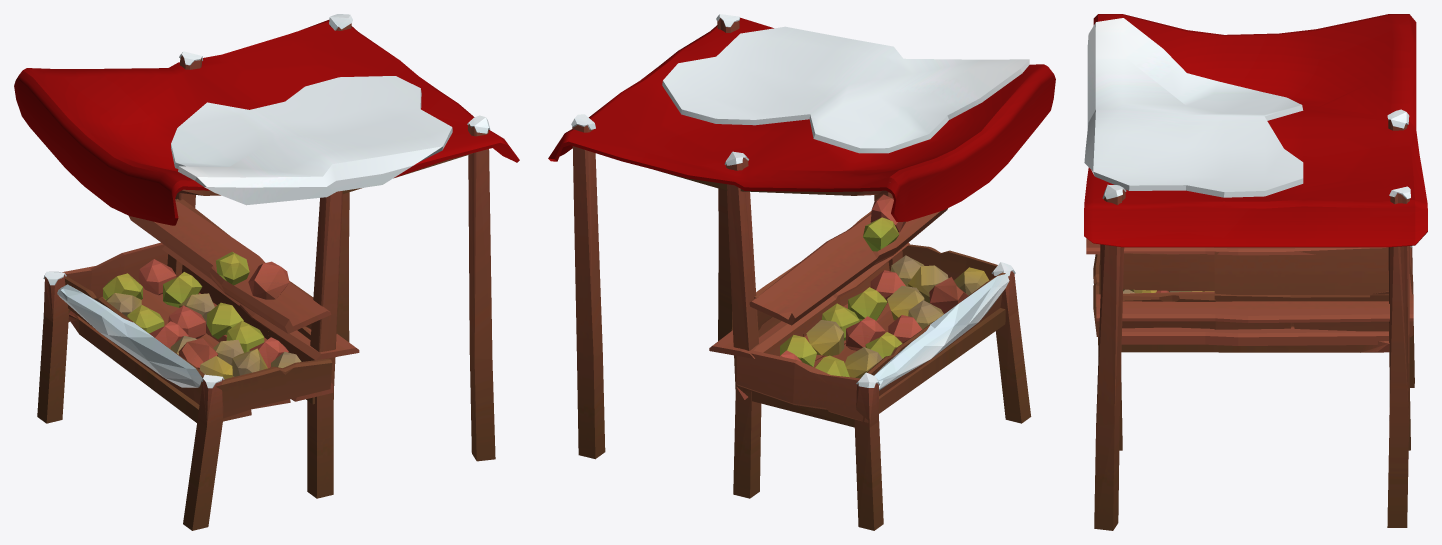
3 views of the same model, side by side, from view 1: azimuth 30°, elevation 25°; view 2: azimuth 150°, elevation 25°; view 3: azimuth 270°, elevation 25° (orthographic).
Parts seen in each view (by area): view 1: SnowyMarketStand; view 2: SnowyMarketStand; view 3: SnowyMarketStand.
Part boxes in pixels (x1,y1,x2,y2): SnowyMarketStand: (14,14,519,530); SnowyMarketStand: (548,14,1055,530); SnowyMarketStand: (1084,14,1427,530).
Size of the model in its own units: 3.44 by 3.37 by 2.9.
Materials: 1 (1 with a texture image).
